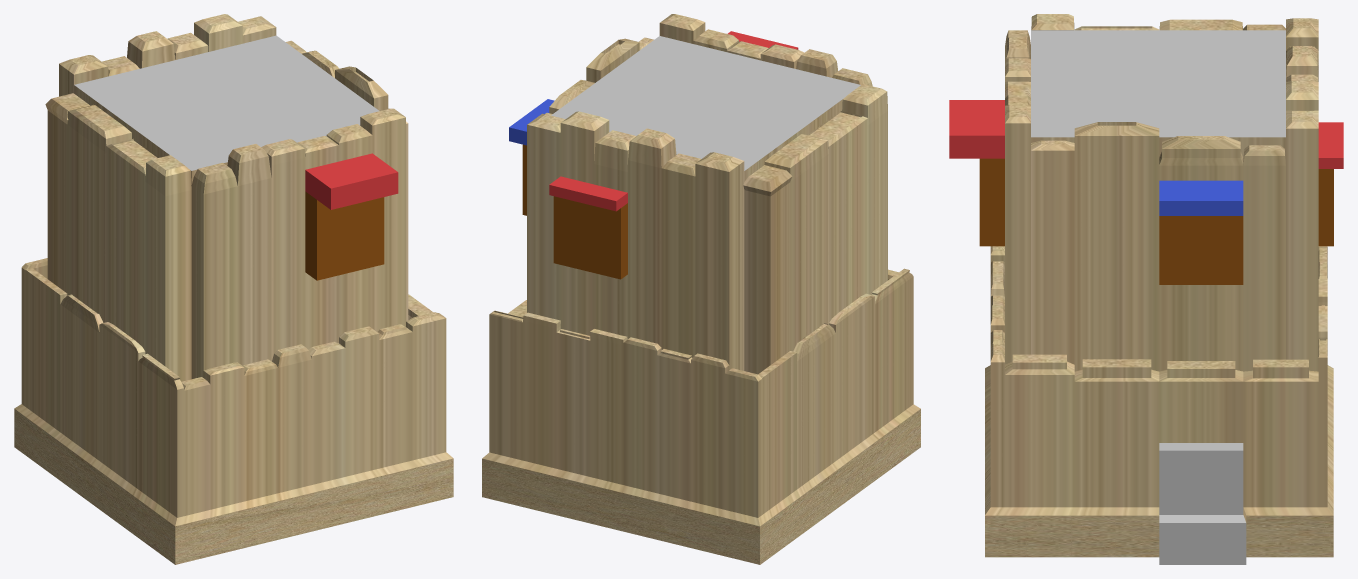
The model's file is temple6.fbx.
3 views of the same model, side by side, from view 1: azimuth 30°, elevation 25°; view 2: azimuth 150°, elevation 25°; view 3: azimuth 270°, elevation 25° (orthographic). The views are drawn at different scales.
Parts seen in each view (by area): view 1: Cube.002; view 2: Cube.002; view 3: Cube.002.
Part boxes in pixels (box(x1,y1,x2,y2)): Cube.002: box(14, 14, 453, 564); Cube.002: box(482, 14, 920, 564); Cube.002: box(949, 14, 1343, 564).
Size of the model in its own units: 848 by 1081 by 913.
